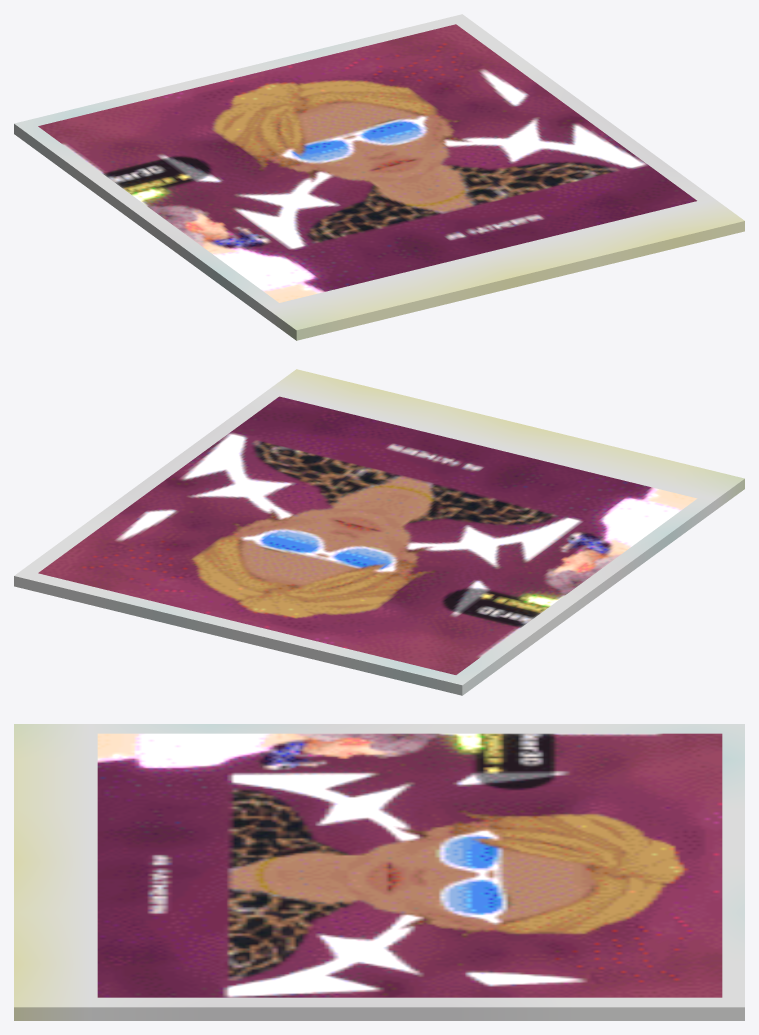
Rendered from polaroidA.glb.
The picture shows the model from 3 angles, top to bottom: view 1: azimuth 30°, elevation 25°; view 2: azimuth 150°, elevation 25°; view 3: azimuth 270°, elevation 25°; orthographic projection. The views are drawn at different scales.
Parts seen in each view (by area): view 1: PolaroidA; view 2: PolaroidA; view 3: PolaroidA.
Part boxes in pixels (x1=…): PolaroidA: x1=14, y1=14, x2=744, y2=340; PolaroidA: x1=14, y1=369, x2=744, y2=695; PolaroidA: x1=14, y1=724, x2=744, y2=1020.
Size of the model in its own units: 0.561 by 0.0125 by 0.6121.
2 materials, 2 textured.
